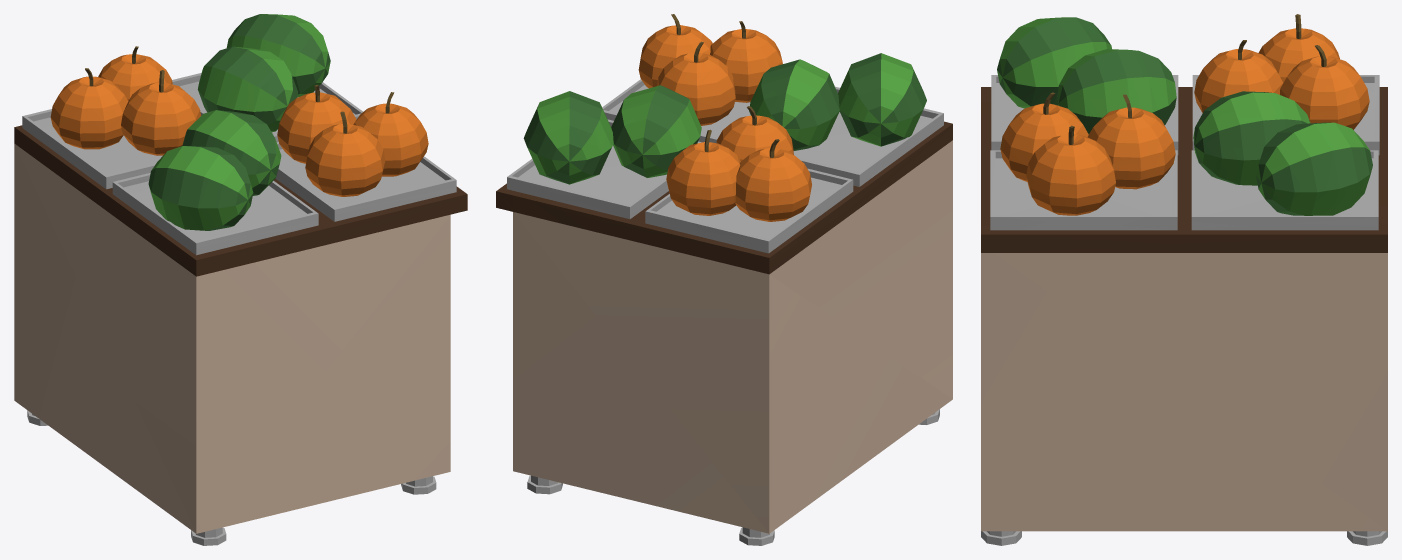
File: SM_fruitShelveSmall_01.glb
3 views of the same model, side by side, from view 1: azimuth 30°, elevation 25°; view 2: azimuth 150°, elevation 25°; view 3: azimuth 270°, elevation 25° (orthographic). The views are drawn at different scales.
Parts seen in each view (by area): view 1: SM_fruitShelveSmall_01; view 2: SM_fruitShelveSmall_01; view 3: SM_fruitShelveSmall_01.
Boxes of the visible parts, x1,y1,x2,y2 form: SM_fruitShelveSmall_01: (14,14,467,545); SM_fruitShelveSmall_01: (496,14,952,545); SM_fruitShelveSmall_01: (981,14,1387,545).
Size of the model in its own units: 0.8695 by 1.13 by 0.9969.
Materials: 1 (1 with a texture image).
